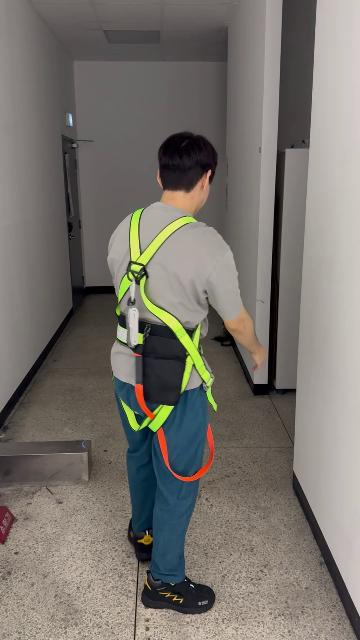helmet_not_worn: (158, 128, 218, 200)
helmet_worn: (111, 212, 221, 465)
shoe_worn: (139, 570, 213, 614), (128, 520, 152, 561)
